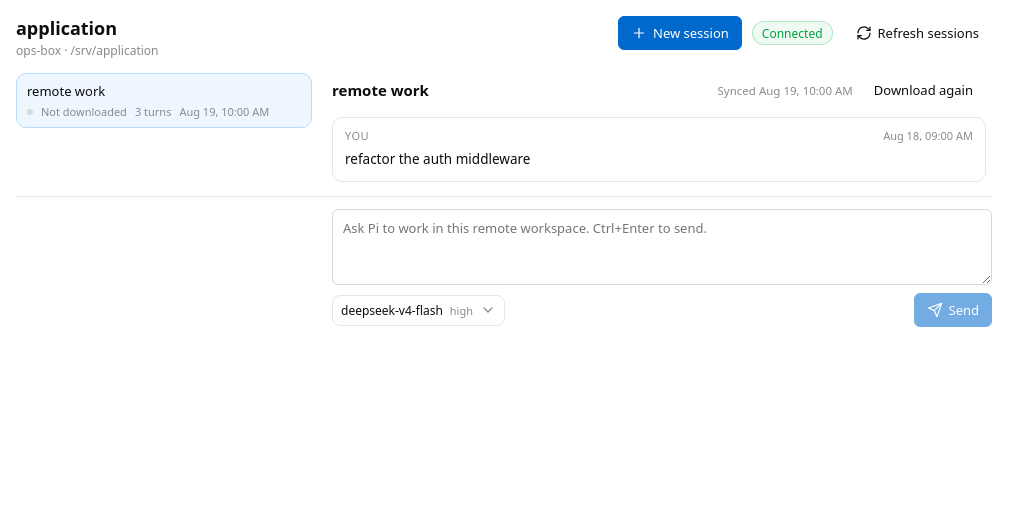
remote session reader › a completed existing-session prompt stays accepted when the hook's workspace refresh fails
Expected: the text "refactor the auth middleware" is shown, [345,150,530,168]
Type "accepted existing turn" into the text box named "Remote prompt" at {"x": 662, "y": 247}, box [332,209,992,285]
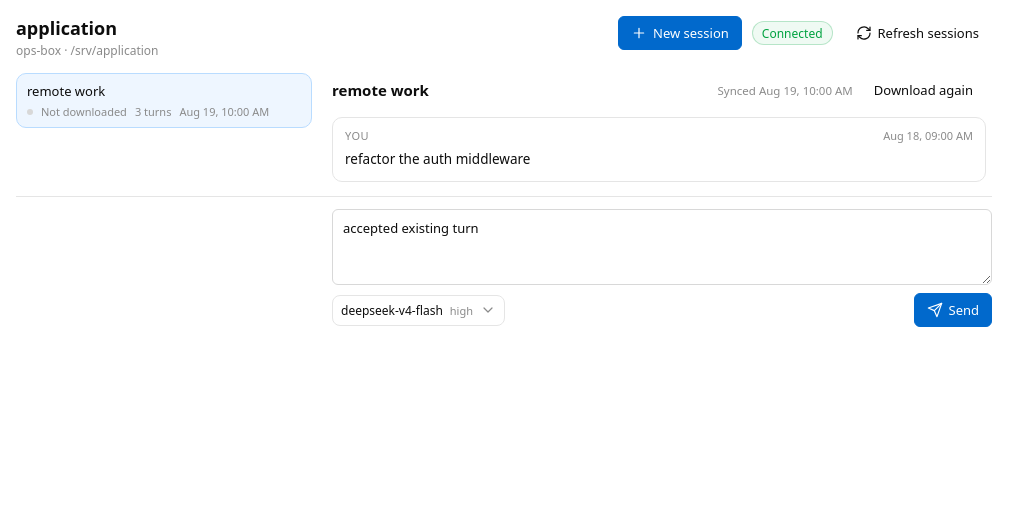
Click the button "Send" at {"x": 953, "y": 310}, box [914,293,992,327]
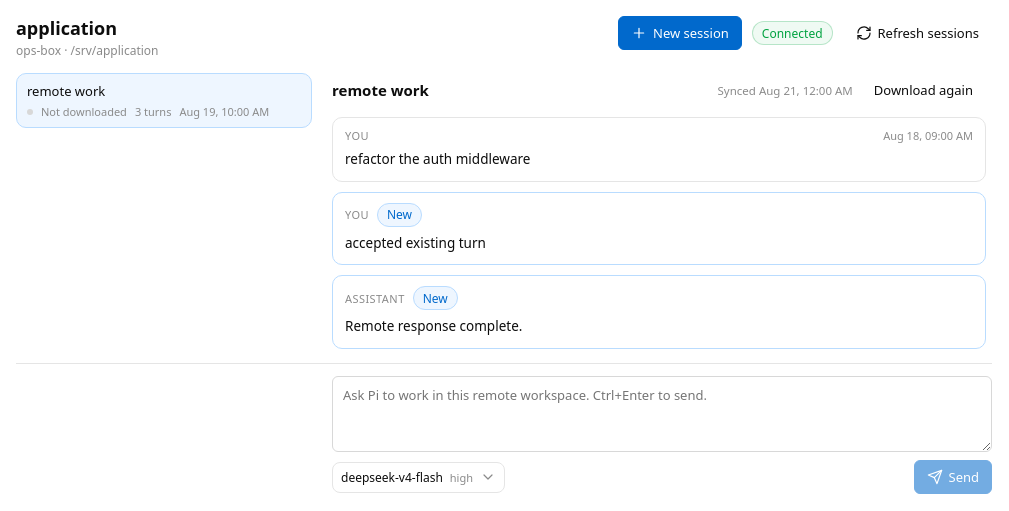
Expected: the text "Remote response complete." is shown, [345,317,522,335]
Expected: the text box named "Remote prompt" is empty, [332,376,992,452]
